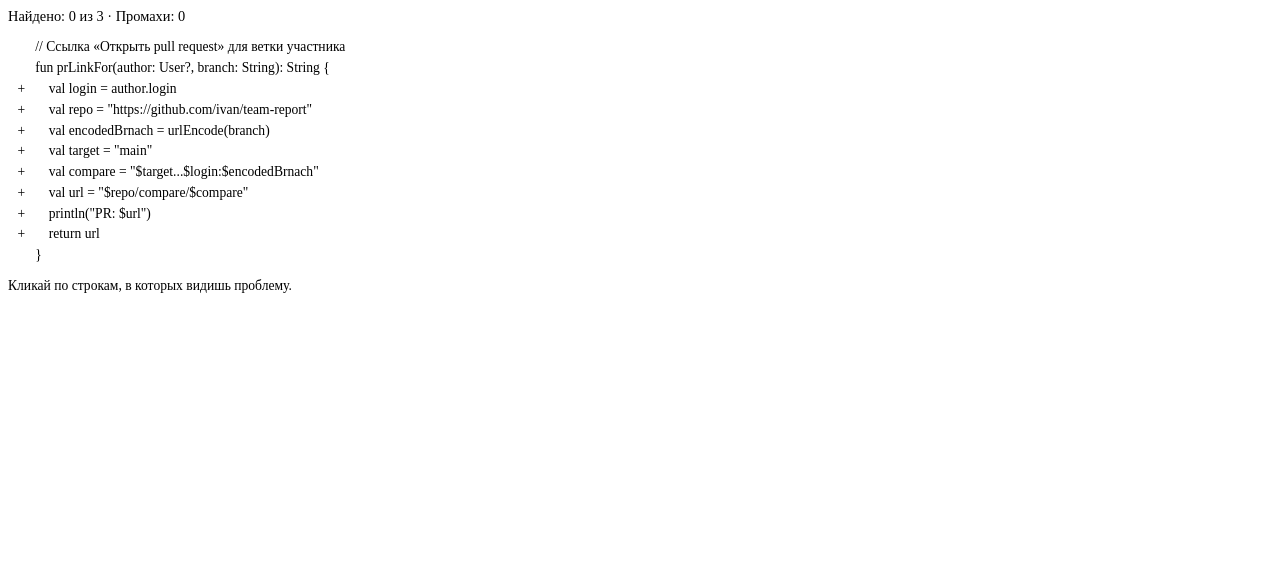
Test case: run with misses records them, gives no xp and offers a retry
Click the button "+ val target = \"main\"". click: (94, 151)
box: x1=8 y1=141 x2=1272 y2=162
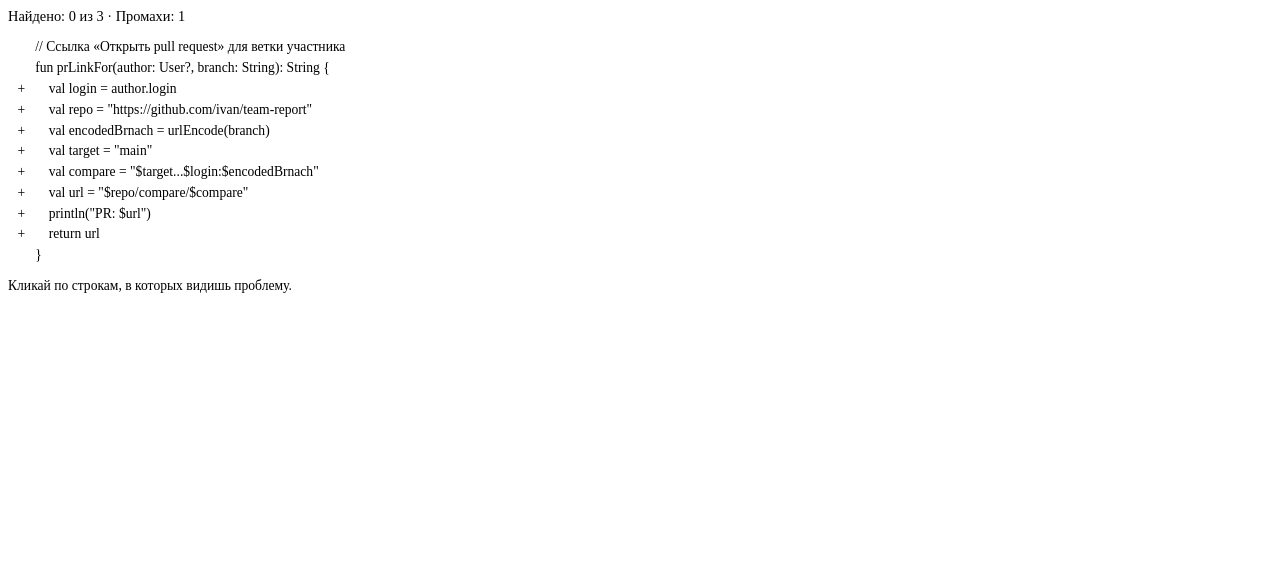
Click the button "+ val login = author.login". click: (106, 88)
box: x1=8 y1=79 x2=1272 y2=99
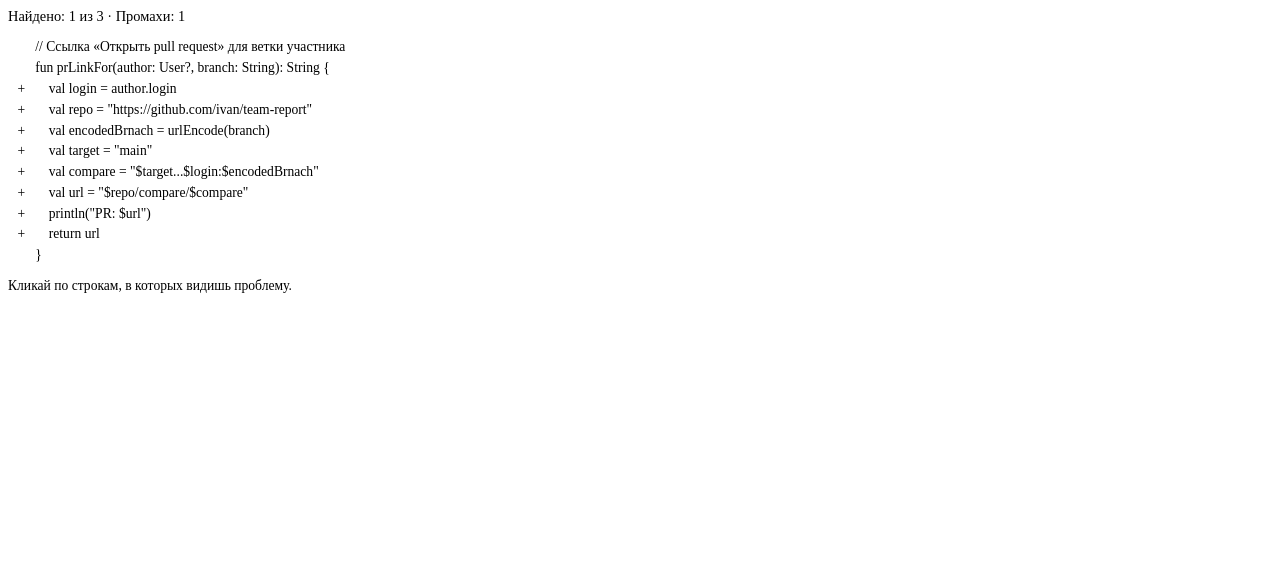
Click the button "+ val repo = \"https://github.com/ivan/team-report\"". click: (174, 109)
box: x1=8 y1=99 x2=1272 y2=120
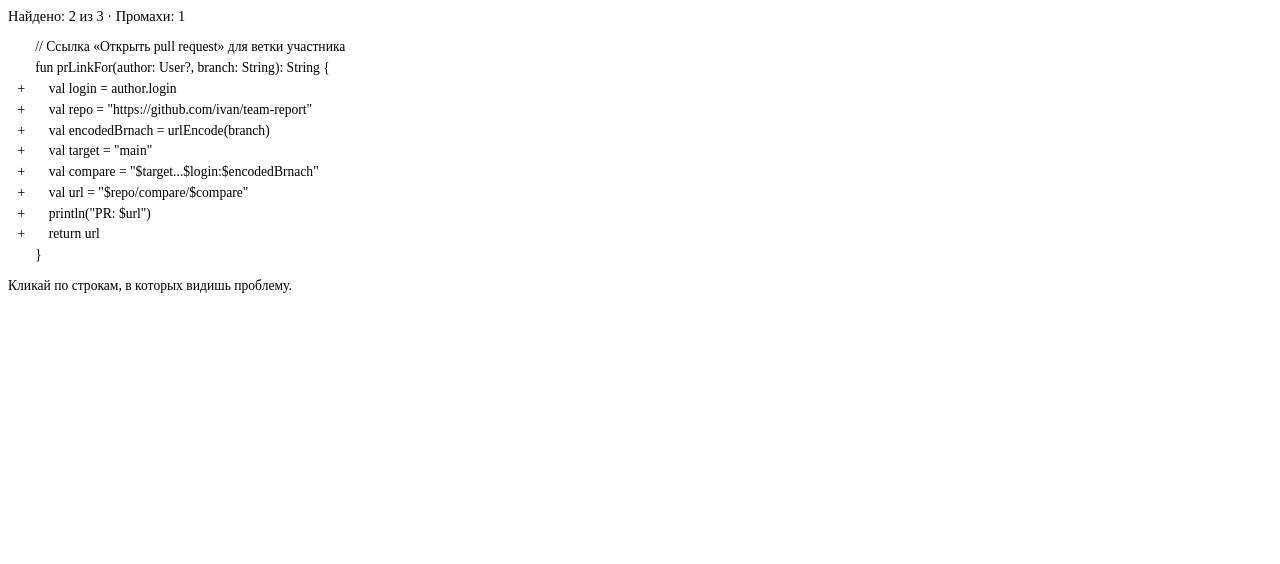
Click the button "+ val encodedBrnach = urlEncode(branch)". click: (152, 130)
box: x1=8 y1=120 x2=1272 y2=141
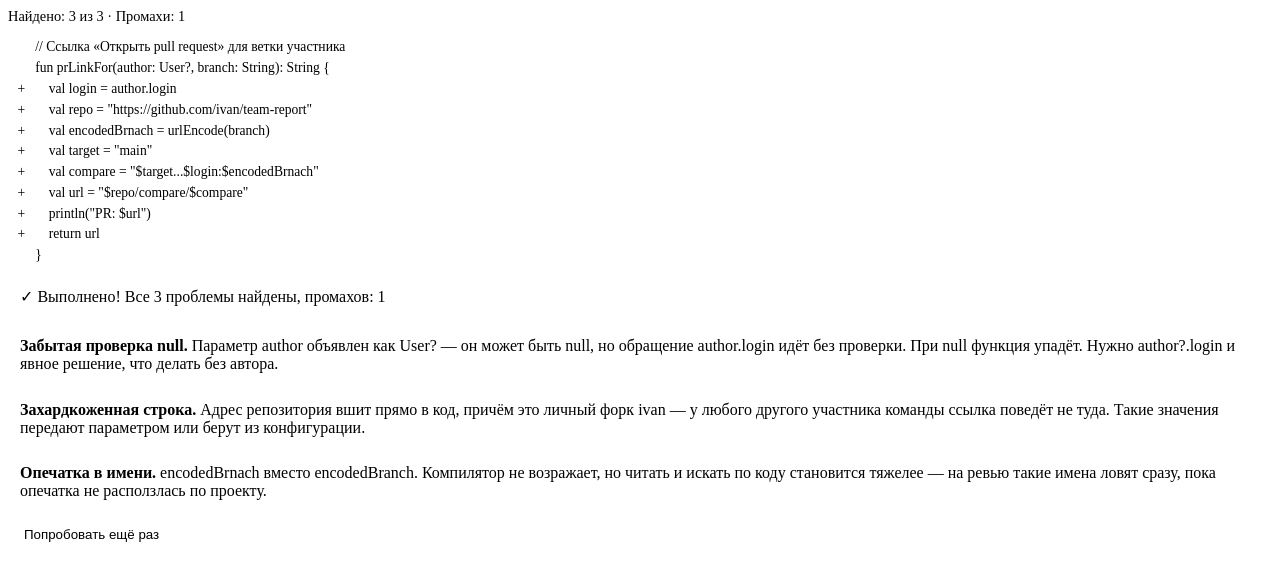
Click the button "Попробовать ещё раз". click: (92, 534)
box: x1=8 y1=521 x2=175 y2=548
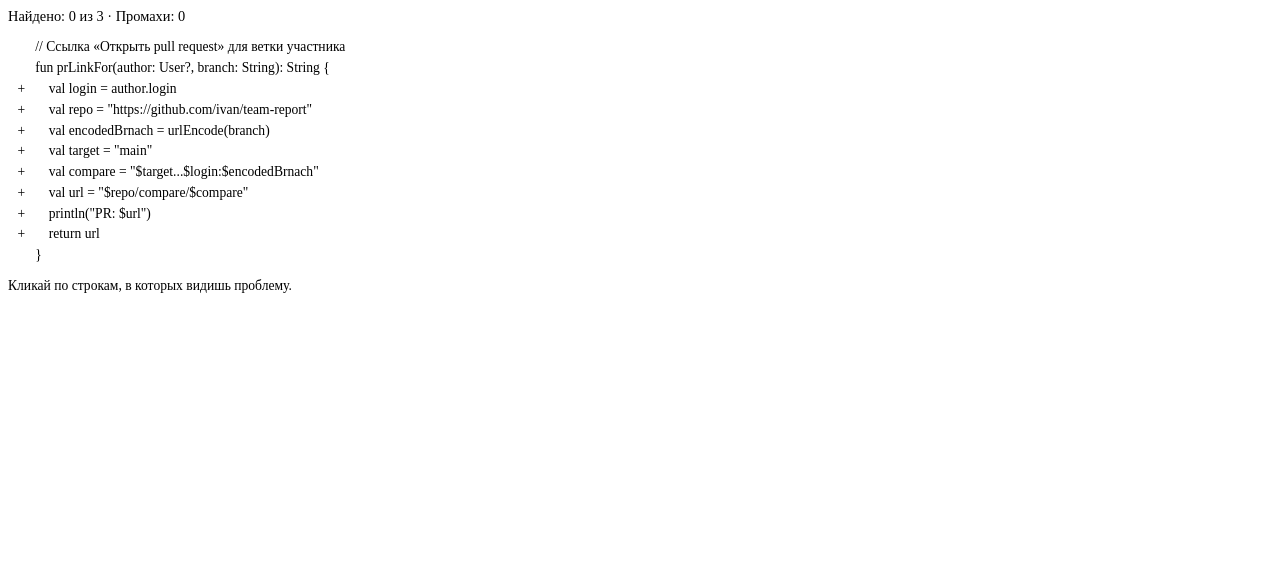
Expected: the text "Найдено: 0 из 3 · Промахи: 0" is shown, x1=8 y1=8 x2=185 y2=24
